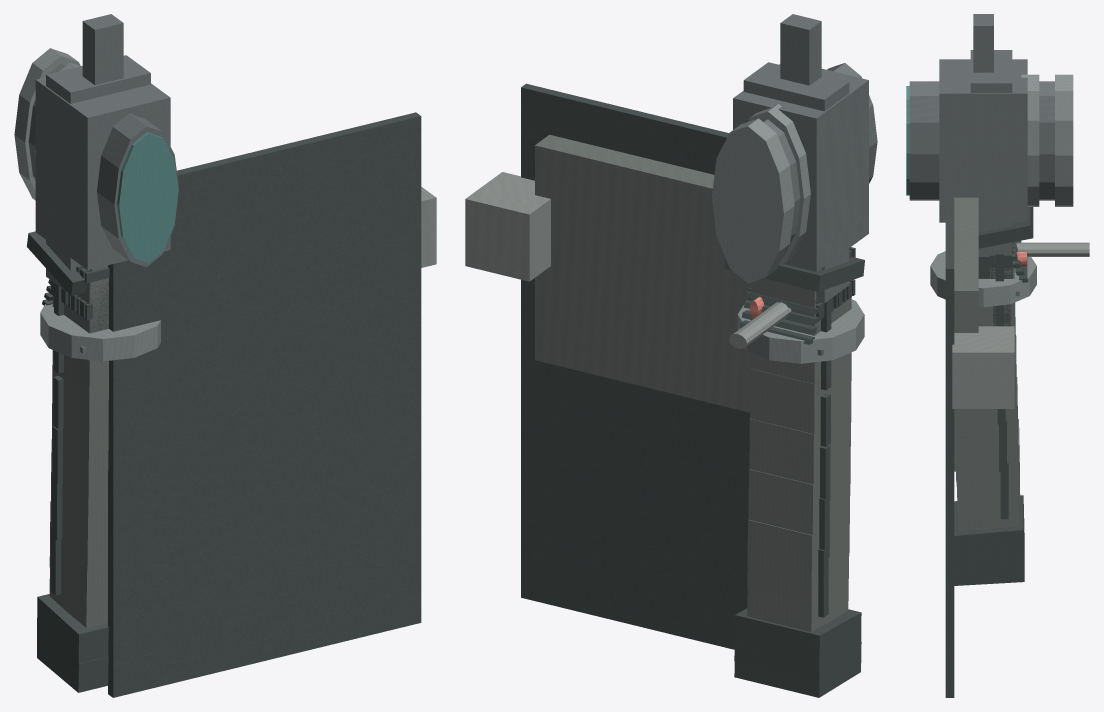
The model's file is weapon_mpx.glb.
3 renders of one model, left to right at view 1: azimuth 30°, elevation 25°; view 2: azimuth 150°, elevation 25°; view 3: azimuth 270°, elevation 25°, orthographic. The views are drawn at different scales.
Parts seen in each view (by area): view 1: weapon_mpx__L1_stock__mpx_stock, weapon_mpx__L0_stock__mpx_stock, weapon_mpx__L0_optic__prism2, weapon_mpx__L1_optic__prism2, weapon_mpx__L1_magazine__mpx_30, weapon_mpx__L0_magazine__mpx_30, weapon_mpx__L0_optic__dot_tube, weapon_mpx__L0_magazine__mpx_20, weapon_mpx__L1_optic__dot_tube, weapon_mpx__L1_magazine__mpx_20, weapon_mpx__L0_handguard_light__wide_light, weapon_mpx__L0_optic__scope4 (+7 smaller); view 2: weapon_mpx__L0_stock__mpx_stock, weapon_mpx__L1_stock__mpx_stock, weapon_mpx__L1_magazine__mpx_20, weapon_mpx__L0_optic__prism2, weapon_mpx__L0_magazine__mpx_20, weapon_mpx__L0_optic__scope4, weapon_mpx__L1_optic__scope4, weapon_mpx__L1_optic__prism2, weapon_mpx__L1_magazine__mpx_30, weapon_mpx__L0_magazine__mpx_30, weapon_mpx__L0_optic__dot_tube, weapon_mpx__L0_handguard_light__wide_light (+10 smaller); view 3: weapon_mpx__L0_optic__prism2, weapon_mpx__L0_stock__mpx_stock, weapon_mpx__L0_magazine__mpx_20, weapon_mpx__L1_stock__mpx_stock, weapon_mpx__L0_optic__scope4, weapon_mpx__L0_magazine__mpx_30, weapon_mpx__L1_magazine__mpx_20, weapon_mpx__L0_optic__dot_tube, weapon_mpx__L1_magazine__mpx_30, weapon_mpx__L1_optic__prism2, weapon_mpx__L1_optic__scope4, weapon_mpx__L1_optic__dot_tube (+8 smaller).
Part boxes in pixels (bbox=[...]): weapon_mpx__L1_stock__mpx_stock: bbox=[102, 112, 436, 697]; weapon_mpx__L0_stock__mpx_stock: bbox=[104, 113, 431, 691]; weapon_mpx__L0_optic__prism2: bbox=[15, 48, 176, 267]; weapon_mpx__L1_optic__prism2: bbox=[14, 48, 178, 269]; weapon_mpx__L1_magazine__mpx_30: bbox=[37, 278, 108, 692]; weapon_mpx__L0_magazine__mpx_30: bbox=[37, 279, 108, 690]; weapon_mpx__L0_optic__dot_tube: bbox=[35, 14, 176, 259]; weapon_mpx__L0_magazine__mpx_20: bbox=[40, 281, 108, 675]; weapon_mpx__L1_optic__dot_tube: bbox=[34, 14, 178, 262]; weapon_mpx__L1_magazine__mpx_20: bbox=[37, 282, 108, 663]; weapon_mpx__L0_handguard_light__wide_light: bbox=[40, 304, 160, 360]; weapon_mpx__L0_optic__scope4: bbox=[29, 60, 173, 264]; weapon_mpx__L0_stock__mpx_stock: bbox=[470, 85, 750, 645]; weapon_mpx__L1_stock__mpx_stock: bbox=[465, 83, 749, 649]; weapon_mpx__L1_magazine__mpx_20: bbox=[734, 299, 861, 681]; weapon_mpx__L0_optic__prism2: bbox=[713, 69, 868, 280]; weapon_mpx__L0_magazine__mpx_20: bbox=[736, 299, 850, 678]; weapon_mpx__L0_optic__scope4: bbox=[713, 63, 873, 280]; weapon_mpx__L1_optic__scope4: bbox=[713, 63, 877, 282]; weapon_mpx__L1_optic__prism2: bbox=[712, 64, 868, 283]; weapon_mpx__L1_magazine__mpx_30: bbox=[734, 305, 861, 697]; weapon_mpx__L0_magazine__mpx_30: bbox=[736, 305, 850, 695]; weapon_mpx__L0_optic__dot_tube: bbox=[750, 15, 845, 329]; weapon_mpx__L0_handguard_light__wide_light: bbox=[737, 301, 864, 363]; weapon_mpx__L0_optic__prism2: bbox=[932, 59, 1072, 220]; weapon_mpx__L0_stock__mpx_stock: bbox=[945, 243, 1014, 694]; weapon_mpx__L0_magazine__mpx_20: bbox=[954, 254, 1024, 571]; weapon_mpx__L1_stock__mpx_stock: bbox=[945, 164, 1014, 697]; weapon_mpx__L0_optic__scope4: bbox=[910, 81, 1054, 200]; weapon_mpx__L0_magazine__mpx_30: bbox=[954, 254, 1024, 584]; weapon_mpx__L1_magazine__mpx_20: bbox=[954, 254, 1024, 574]; weapon_mpx__L0_optic__dot_tube: bbox=[907, 14, 1038, 248]; weapon_mpx__L1_magazine__mpx_30: bbox=[954, 255, 1024, 585]; weapon_mpx__L1_optic__prism2: bbox=[931, 59, 1073, 222]; weapon_mpx__L1_optic__scope4: bbox=[909, 81, 1054, 200]; weapon_mpx__L1_optic__dot_tube: bbox=[906, 14, 1039, 206].
Bounding box in the file's own units: 5.8 × 9.85 × 2.95.
Materials: 3 (3 with a texture image).
